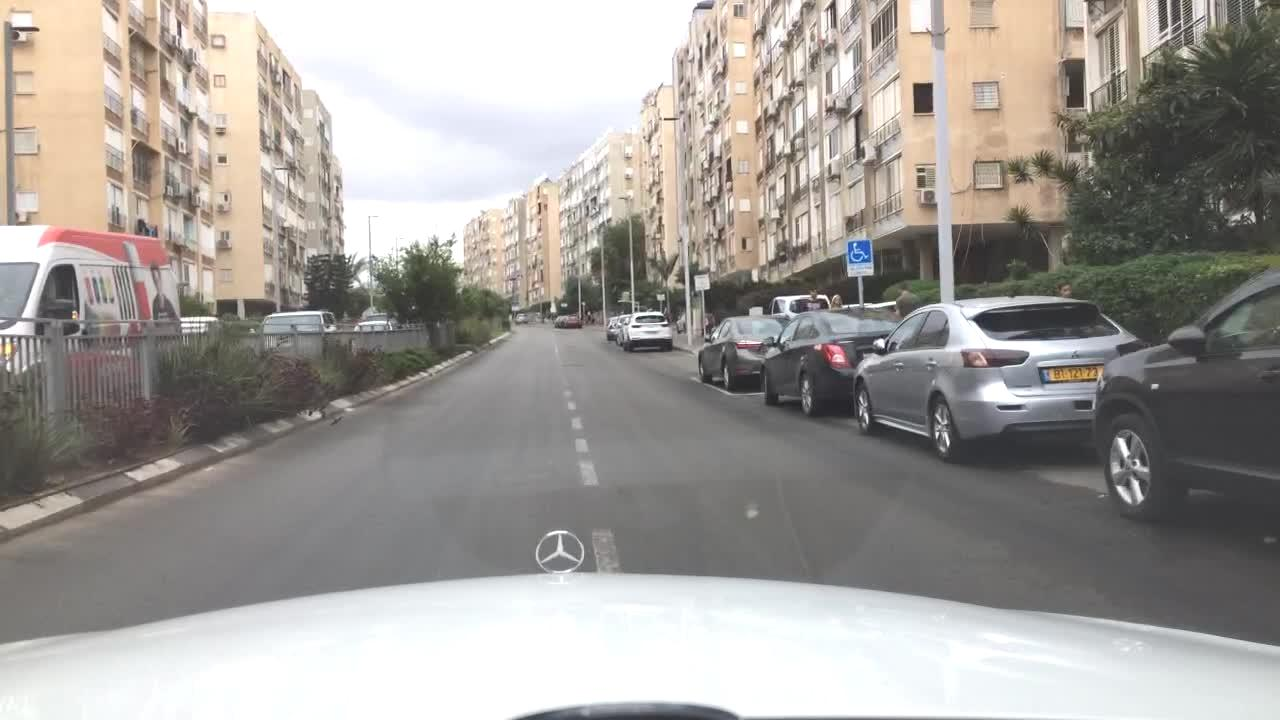Mercedes: (526, 510, 605, 582)
Mitsubishi: (1067, 349, 1085, 362)
